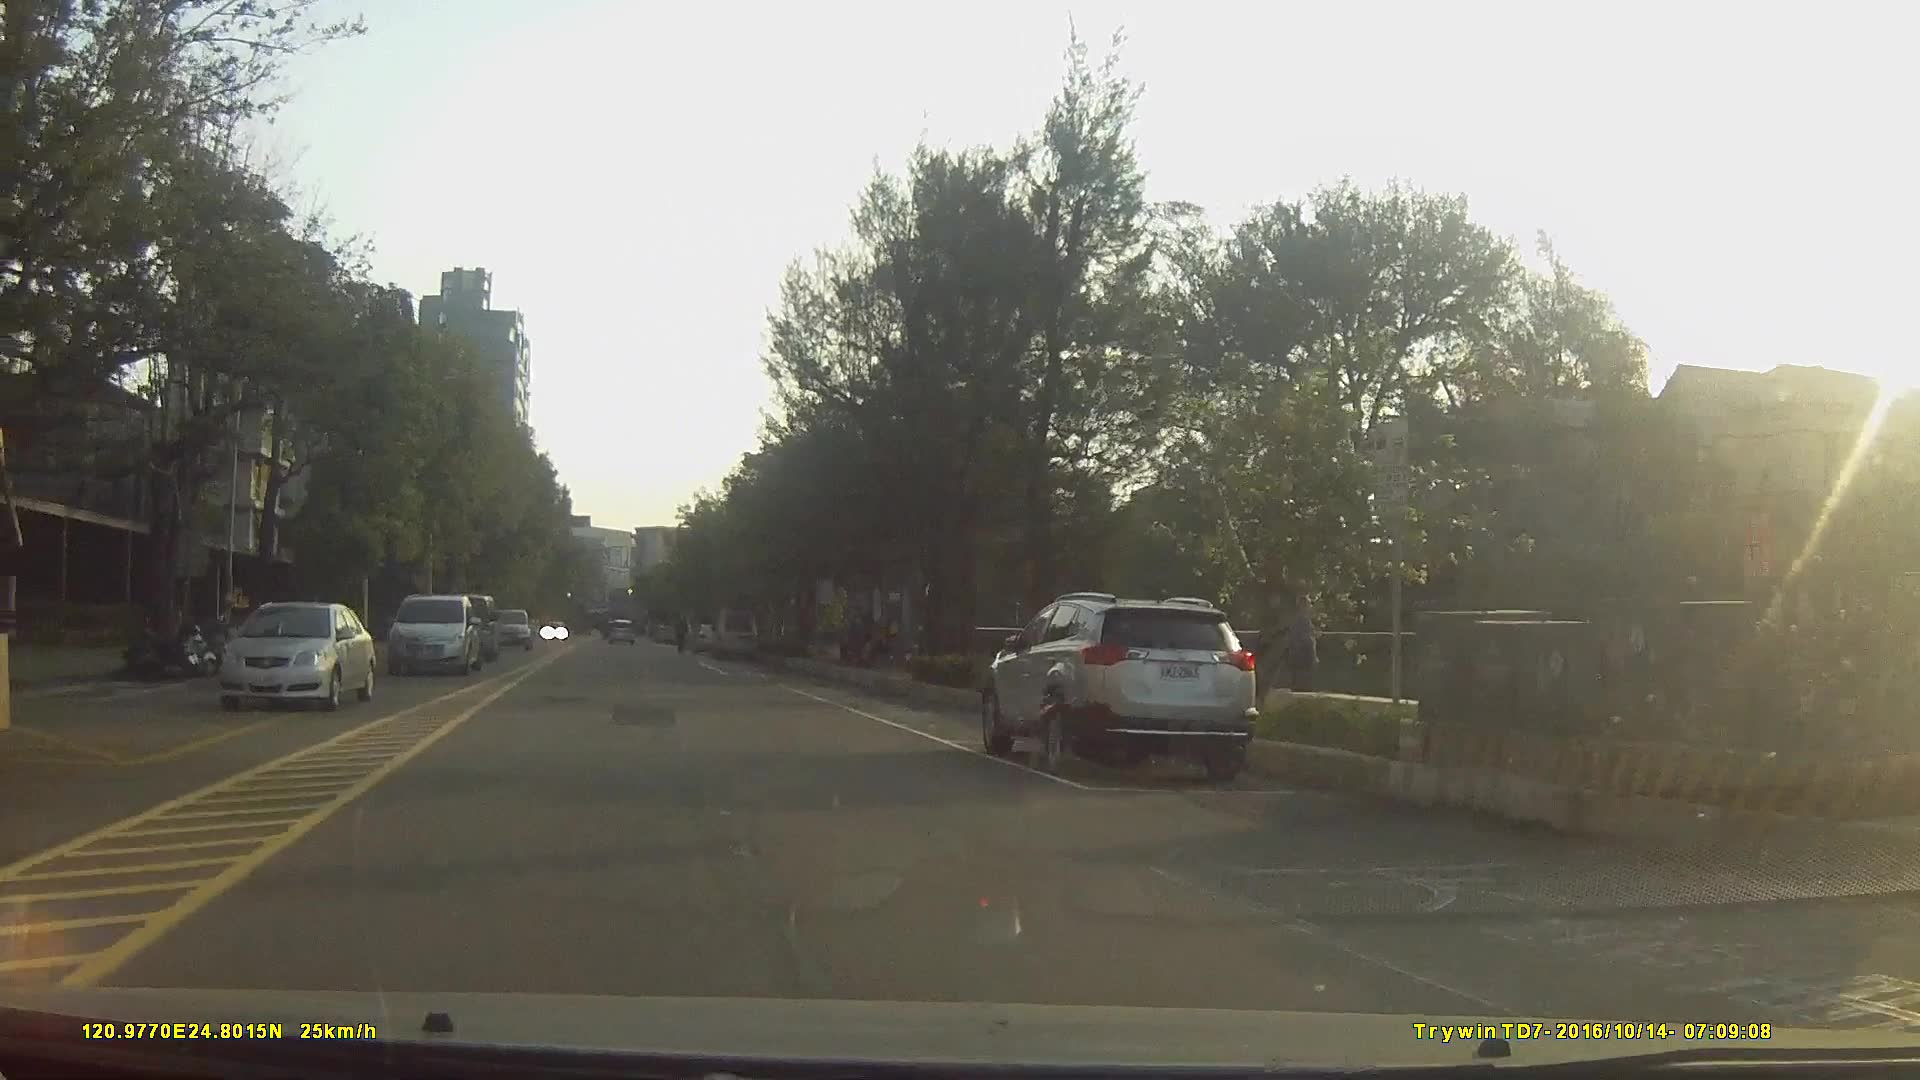vehicle: (984, 593, 1258, 793), (216, 603, 376, 711), (388, 593, 481, 676), (708, 608, 760, 662), (487, 608, 533, 647), (688, 618, 725, 653), (607, 615, 636, 647)
